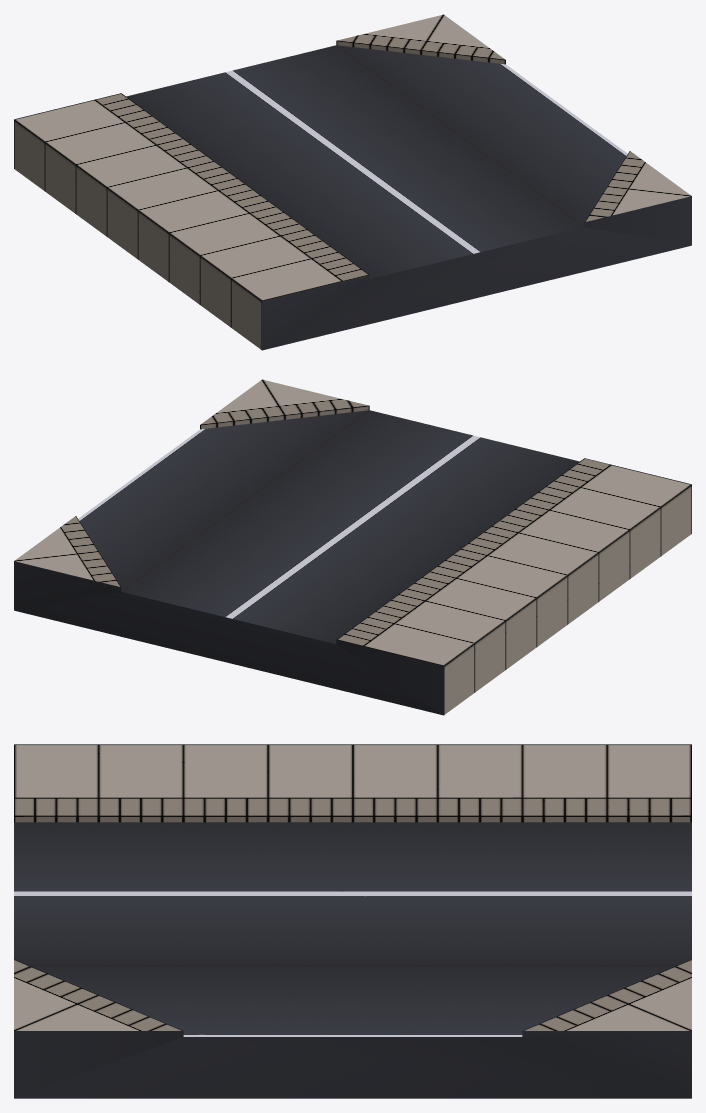
The model's file is City_Road_TJunction.fbx.
3 views of the same model, one above another, from view 1: azimuth 30°, elevation 25°; view 2: azimuth 150°, elevation 25°; view 3: azimuth 270°, elevation 25° (orthographic). The views are drawn at different scales.
Visible parts, largest first — view 1: City_Road_TJunction; view 2: City_Road_TJunction; view 3: City_Road_TJunction.
Boxes of the visible parts, box(x1,y1,x2,y2) form: City_Road_TJunction: box(14, 14, 691, 350); City_Road_TJunction: box(14, 379, 691, 715); City_Road_TJunction: box(14, 744, 691, 1098).
Bounding box in the file's own units: 1600 × 176 × 1600.
